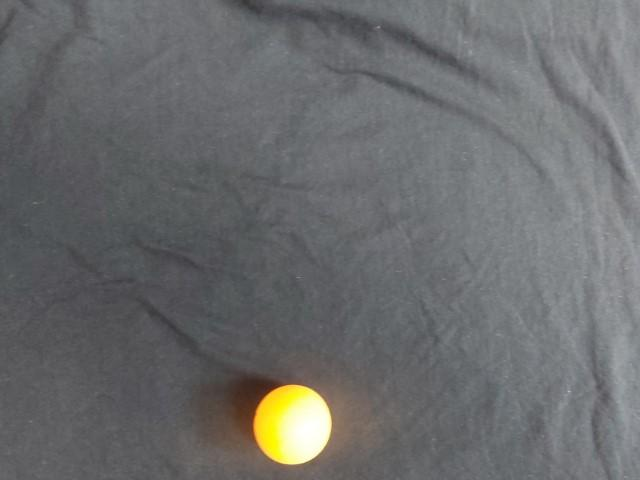oball: (301, 14, 391, 101)
